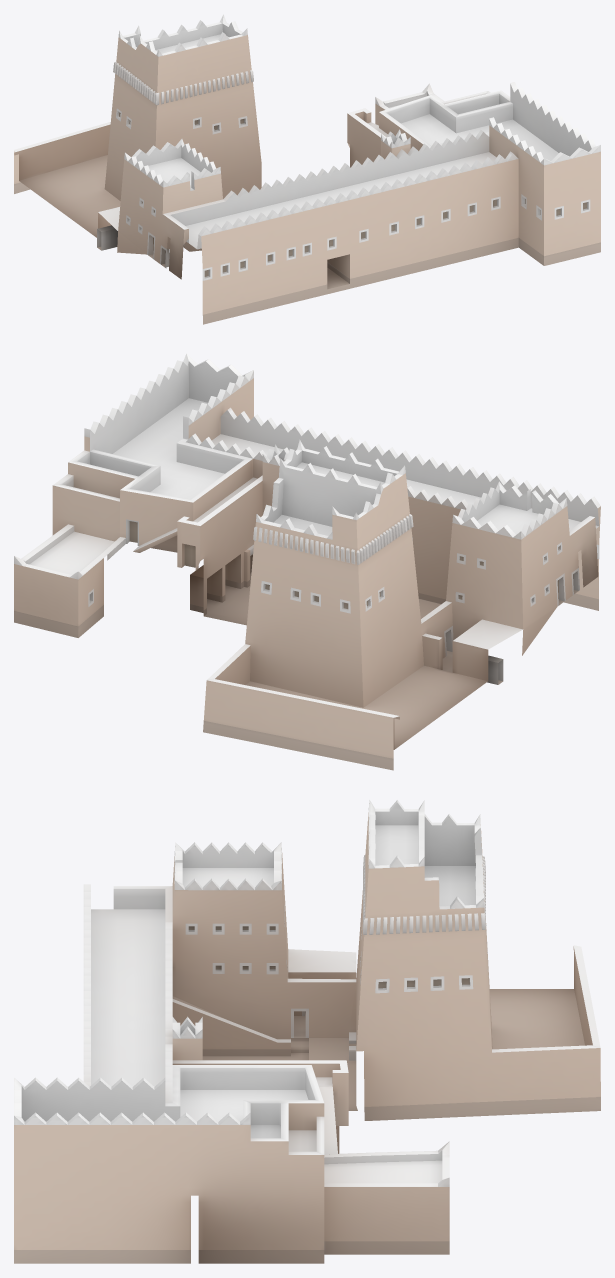
3 renders of one model, top to bottom at view 1: azimuth 30°, elevation 25°; view 2: azimuth 150°, elevation 25°; view 3: azimuth 270°, elevation 25°, orthographic. The views are drawn at different scales.
Visible parts, largest first — view 1: almushaitpalace70030076686528409; view 2: almushaitpalace70030076686528409; view 3: almushaitpalace70030076686528409.
Part boxes in pixels (x1,y1,x2,y2): almushaitpalace70030076686528409: (14, 14, 600, 324); almushaitpalace70030076686528409: (14, 353, 600, 770); almushaitpalace70030076686528409: (14, 800, 600, 1263).
Bounding box in the file's own units: 40.66 × 18.7 × 39.19.
Materials: 1 (1 with a texture image).
